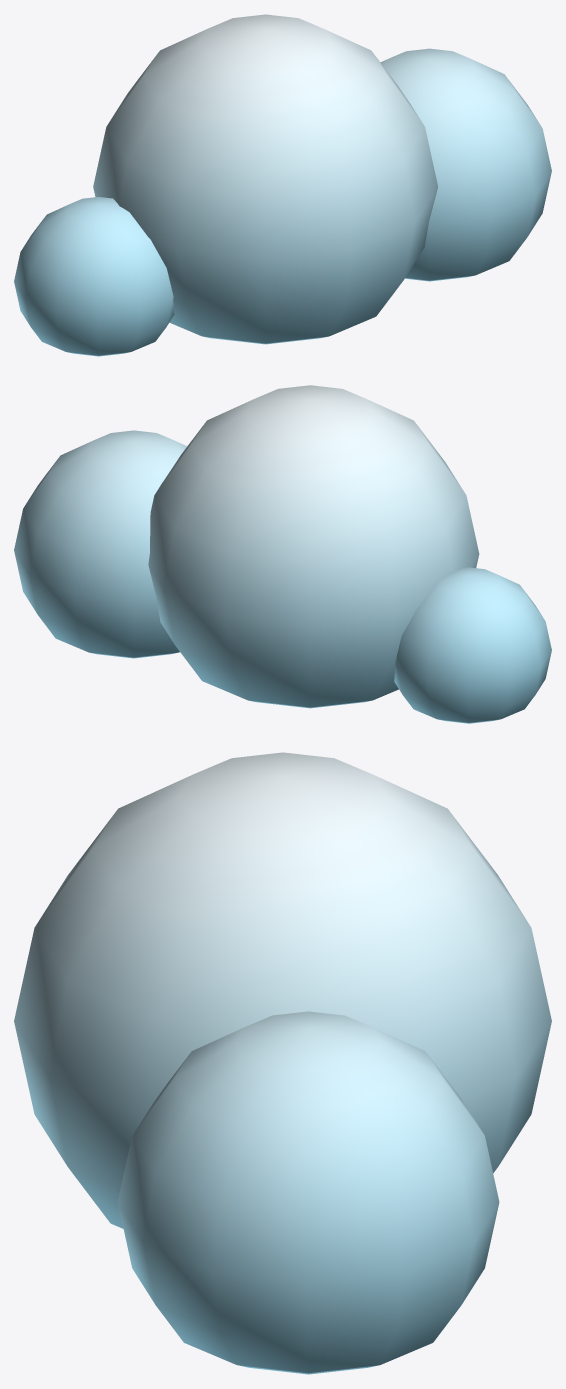
The model's file is Cloud_01.fbx.
3 renders of one model, top to bottom at view 1: azimuth 30°, elevation 25°; view 2: azimuth 150°, elevation 25°; view 3: azimuth 270°, elevation 25°, orthographic. The views are drawn at different scales.
Visible parts, largest first — view 1: Cloud_01; view 2: Cloud_01; view 3: Cloud_01.
Boxes of the visible parts, x1,y1,x2,y2 form: Cloud_01: (14,14,551,356); Cloud_01: (14,385,551,723); Cloud_01: (14,752,551,1374).
Size of the model in its own units: 345 by 171 by 200.
